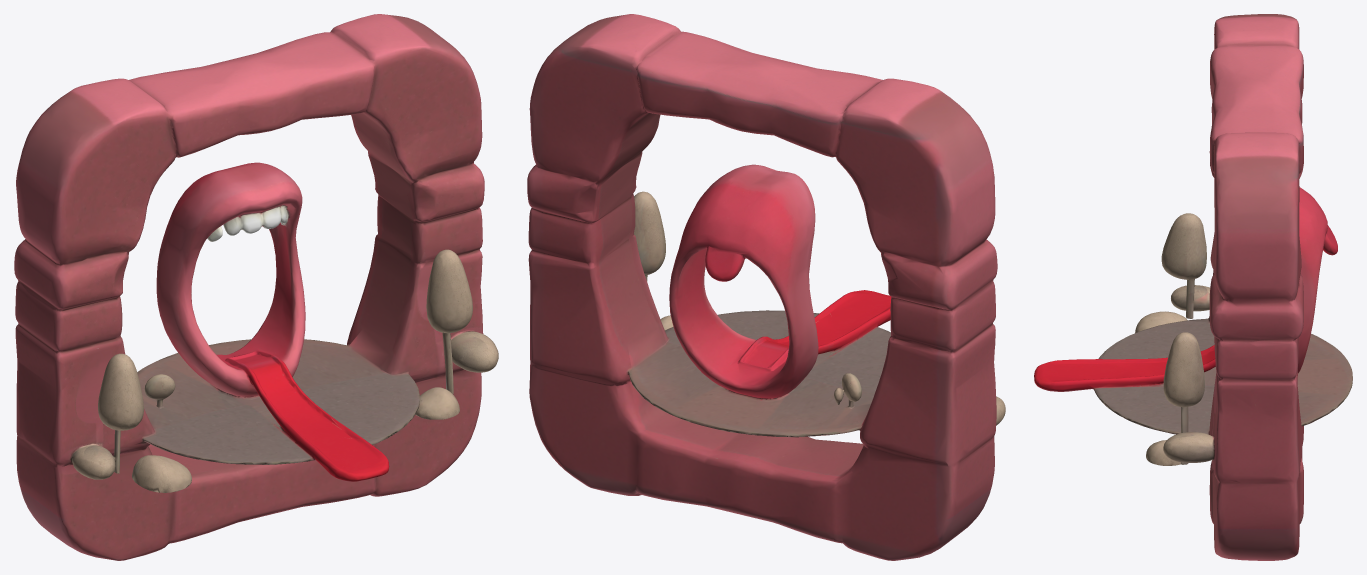
File: Lobby_MouthArch.glb
3 views of the same model, side by side, from view 1: azimuth 30°, elevation 25°; view 2: azimuth 150°, elevation 25°; view 3: azimuth 270°, elevation 25° (orthographic). The views are drawn at different scales.
Size of the model in its own units: 1.9 by 1.9 by 1.34.
1 material, 1 textured.
